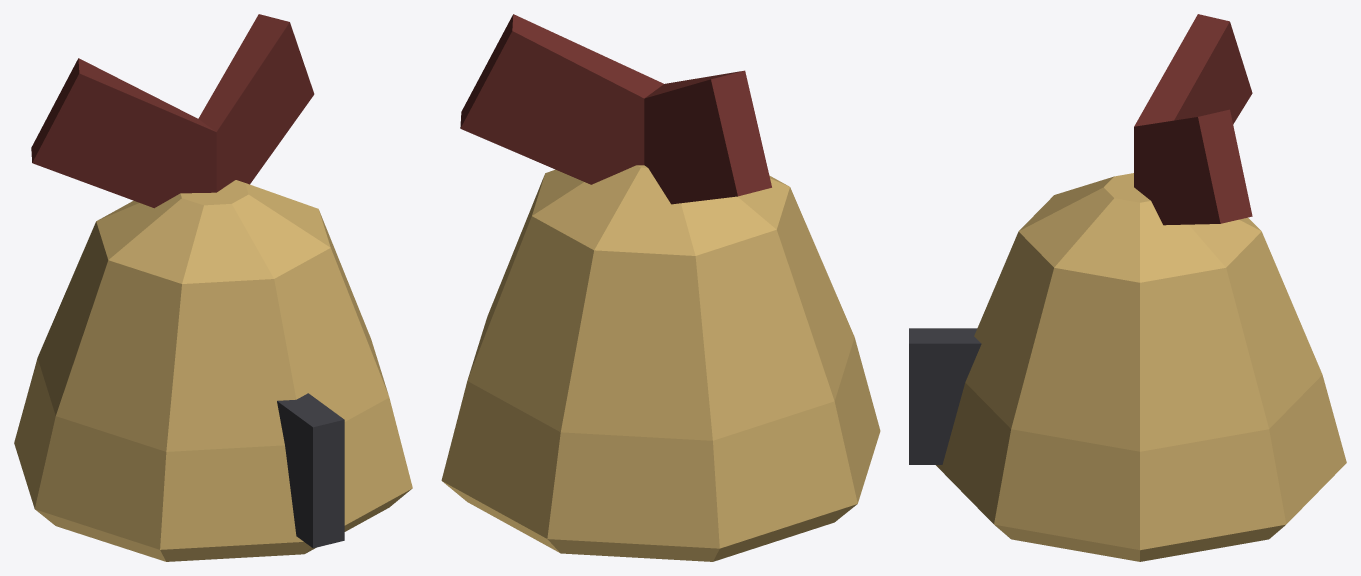
File: bell.glb
3 views of the same model, side by side, from view 1: azimuth 30°, elevation 25°; view 2: azimuth 150°, elevation 25°; view 3: azimuth 270°, elevation 25° (orthographic). The views are drawn at different scales.
Visible parts, largest first — view 1: bell; view 2: bell; view 3: bell.
Boxes of the visible parts, left/top/right/bottom form: bell: left=14, top=14, right=412, bottom=561; bell: left=441, top=14, right=880, bottom=561; bell: left=909, top=14, right=1346, bottom=561.
Bounding box in the file's own units: 0.068 × 0.0831 × 0.072.
